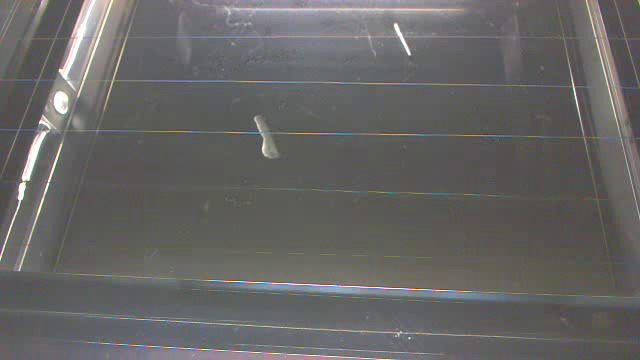alpha: (249, 113, 279, 162), (389, 21, 412, 60)
